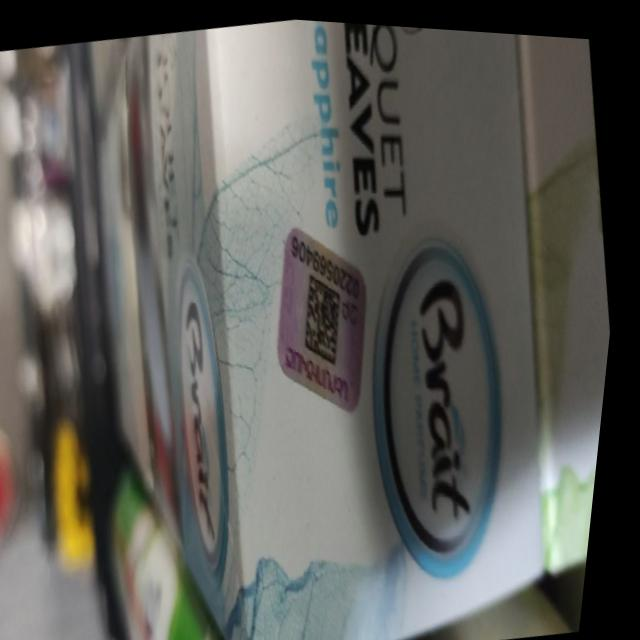datamatrix: (296, 262, 363, 369)
